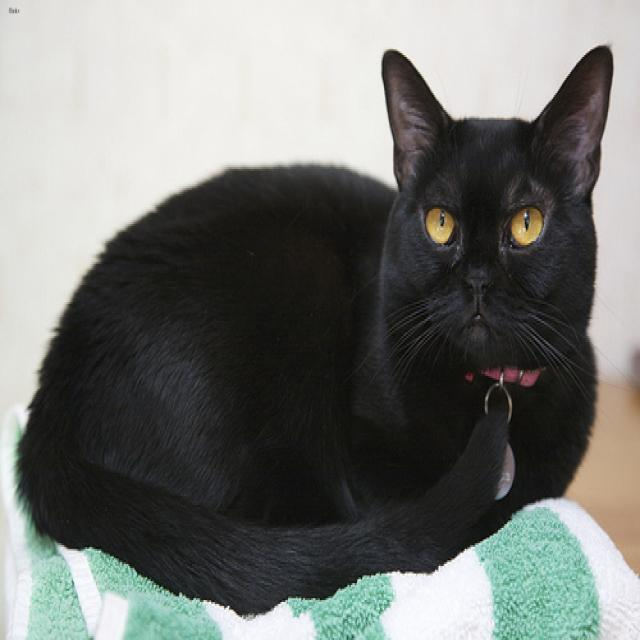Bombay: (379, 44, 610, 350)
